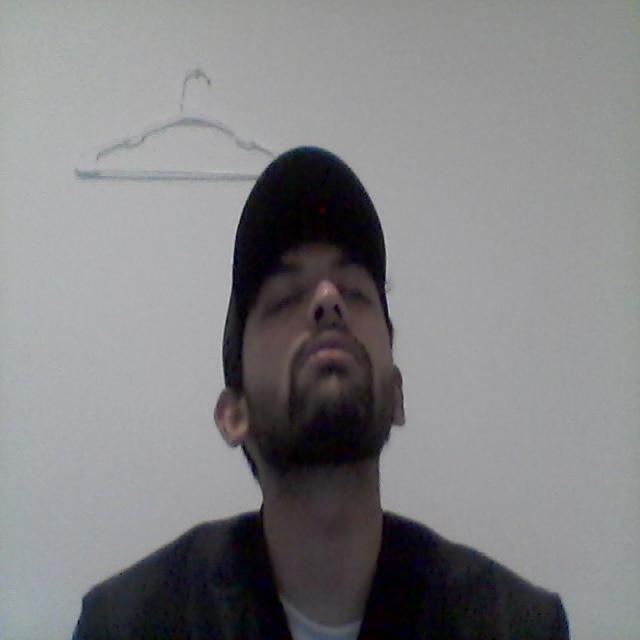cap: (183, 136, 433, 356)
